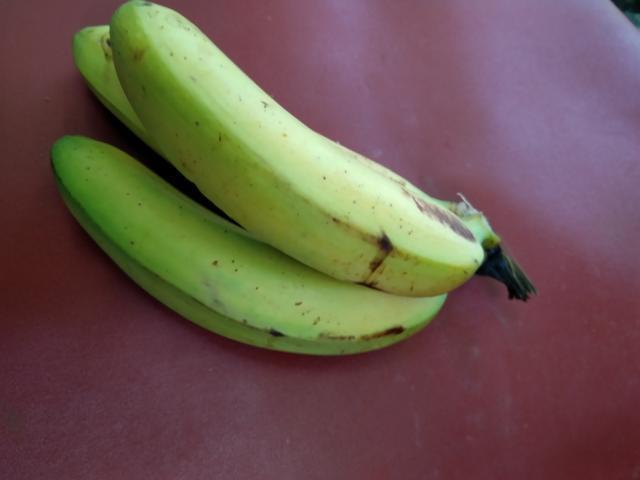ripe: (102, 0, 485, 300), (42, 135, 442, 363)
